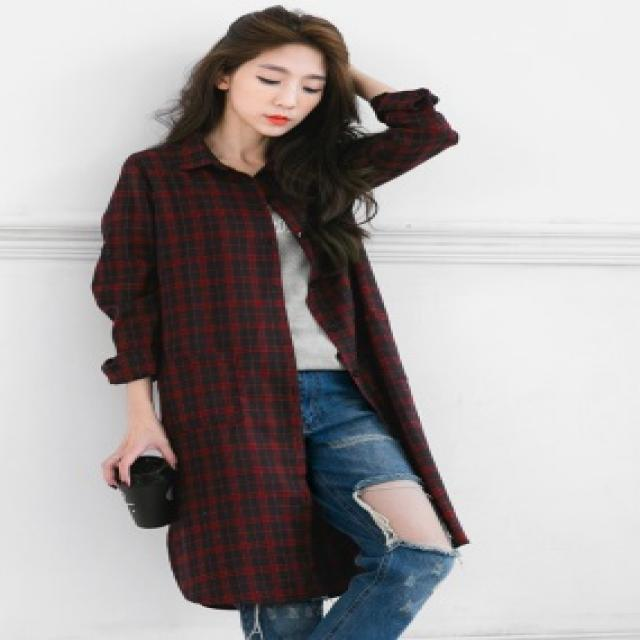plaid: (74, 151, 472, 587)
